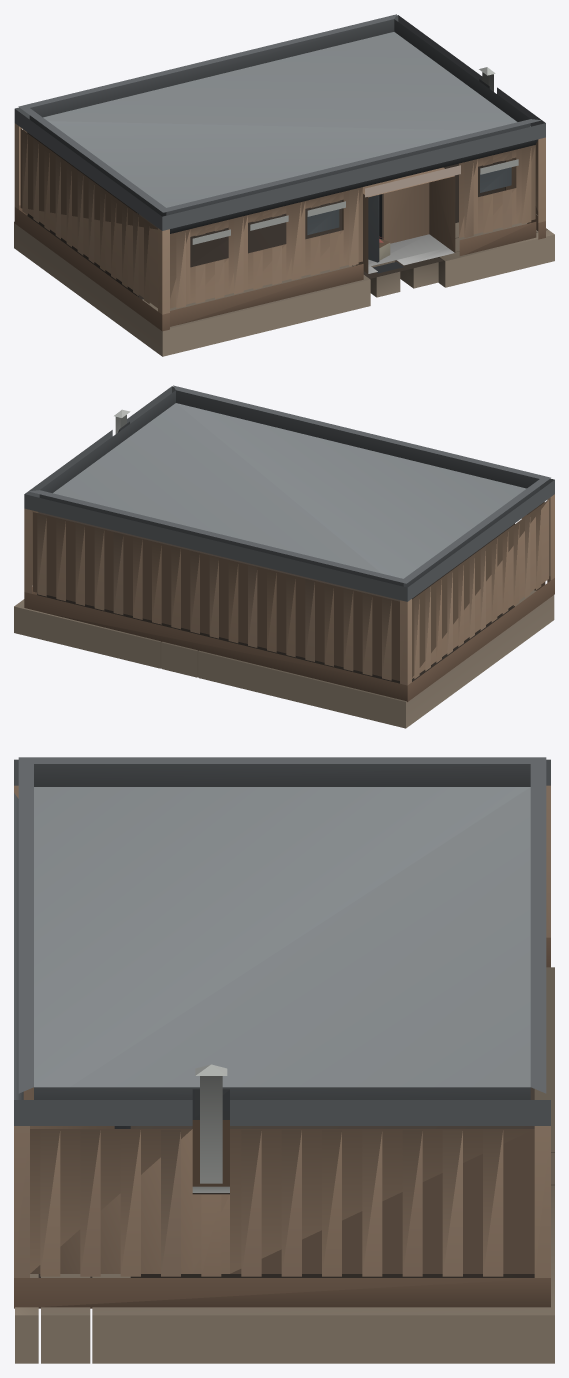
The model's file is clubhouse.lod.glb.
3 views of the same model, one above another, from view 1: azimuth 30°, elevation 25°; view 2: azimuth 150°, elevation 25°; view 3: azimuth 270°, elevation 25° (orthographic). The views are drawn at different scales.
Visible parts, largest first — view 1: clubhouse.001; view 2: clubhouse.001; view 3: clubhouse.001.
Boxes of the visible parts, bbox=[...] form: clubhouse.001: bbox=[14, 14, 554, 356]; clubhouse.001: bbox=[14, 385, 554, 728]; clubhouse.001: bbox=[14, 757, 554, 1363].
Size of the model in its own units: 15.98 by 6.13 by 10.48.
